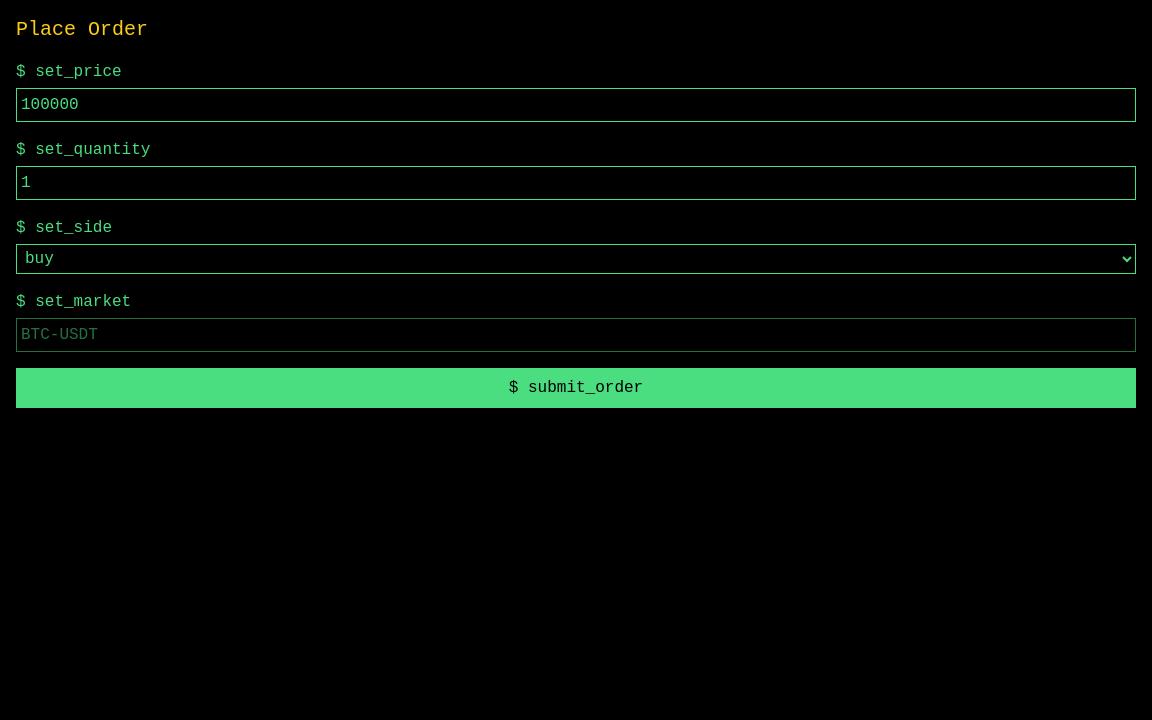
Scenario: OrderPage › shows completion message when order succeeds and status is completed
The width and height of the screenshot is (1152, 720).
Click the button "$ submit_order": click(576, 388) x1=16 y1=368 x2=1136 y2=408
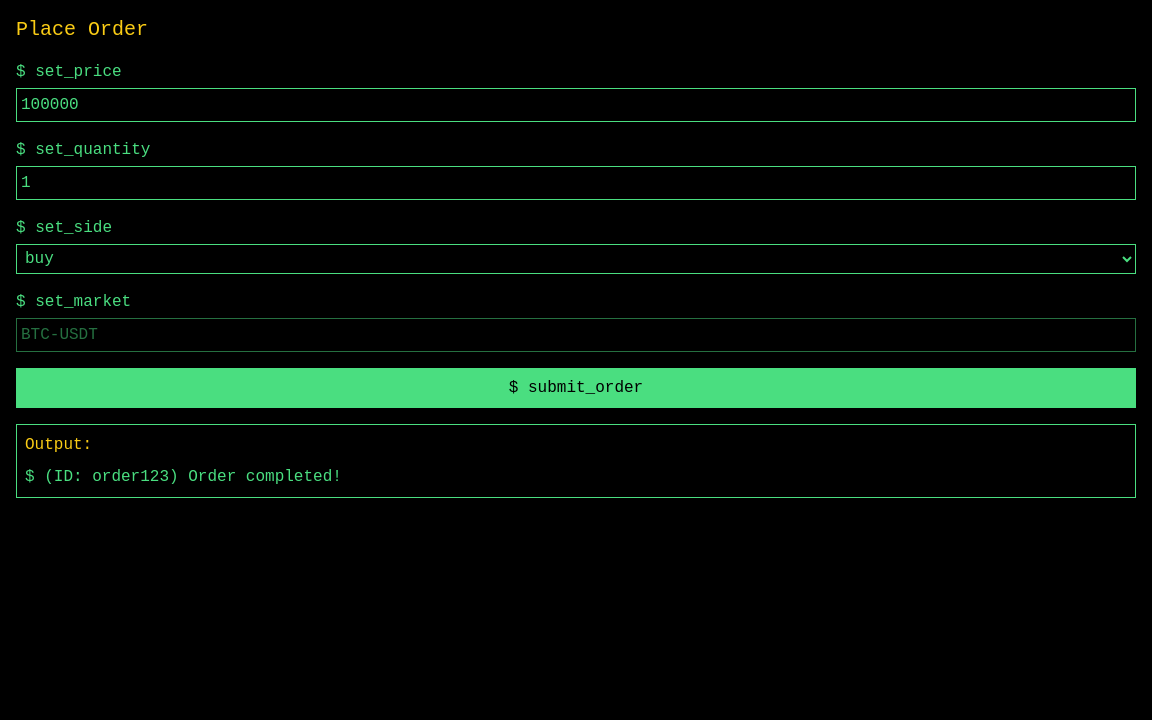
Check: the text "$ (ID: order123) Order completed!" is shown, box x1=25 y1=468 x2=342 y2=486
